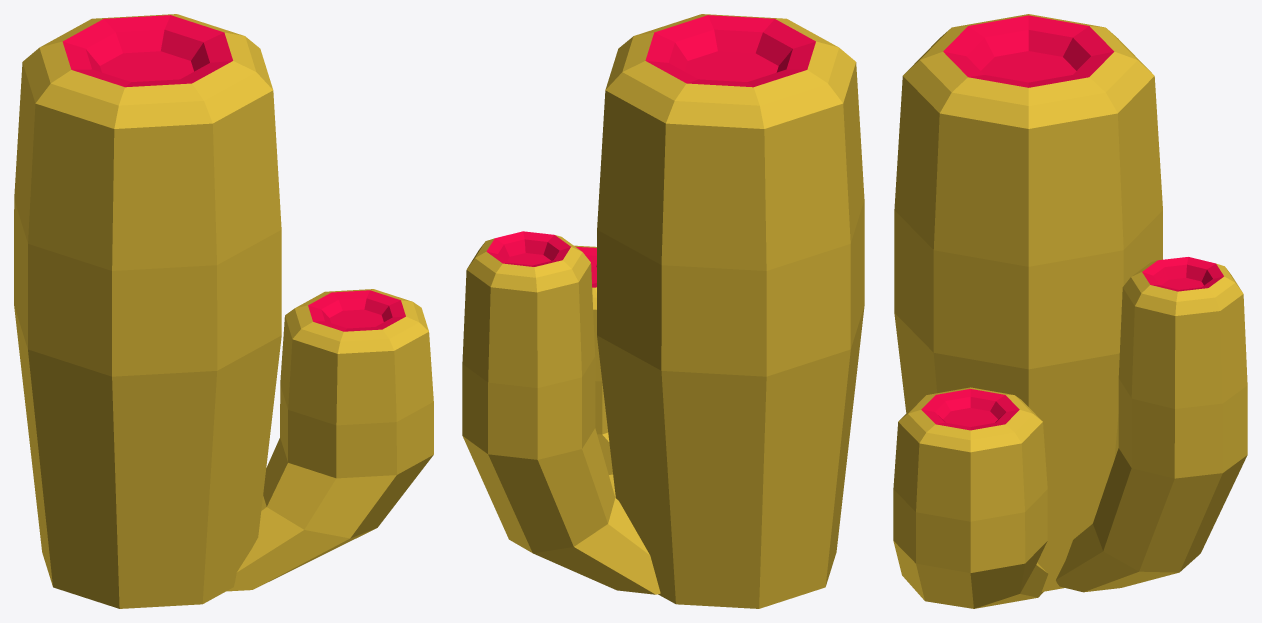
File: propSponges1C.fbx
3 renders of one model, left to right at view 1: azimuth 30°, elevation 25°; view 2: azimuth 150°, elevation 25°; view 3: azimuth 270°, elevation 25°, orthographic. The views are drawn at different scales.
Parts seen in each view (by area): view 1: Sponges1C; view 2: Sponges1C; view 3: Sponges1C.
Boxes of the visible parts, x1,y1,x2,y2 form: Sponges1C: [14, 14, 433, 608]; Sponges1C: [462, 14, 864, 608]; Sponges1C: [893, 14, 1247, 608].
Bounding box in the file's own units: 205 × 275 × 176.
